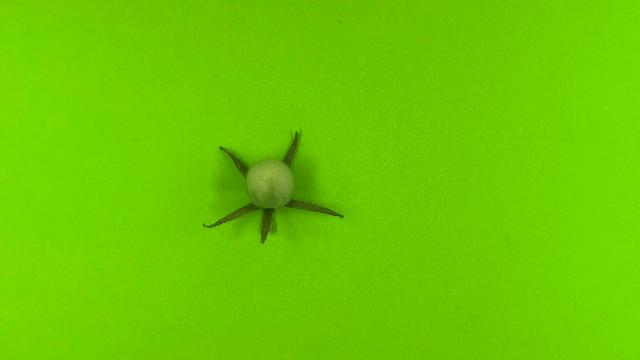Fruit Maturation: (245, 158, 296, 210)
